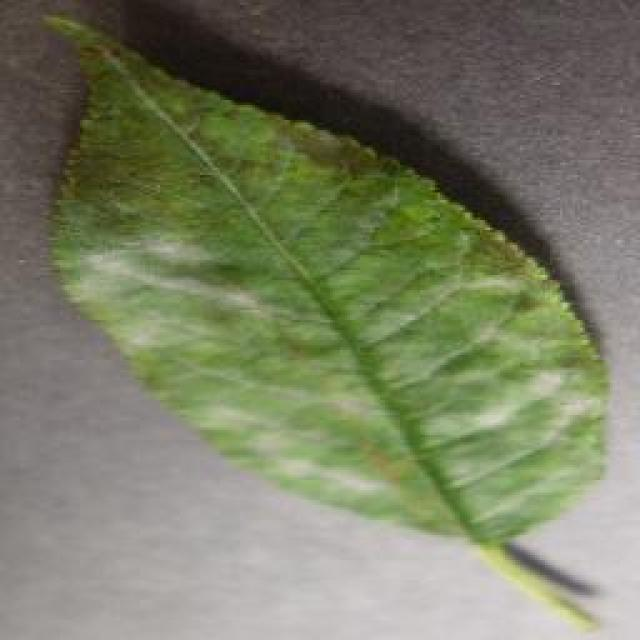Cherry___Powdery_mildew: (33, 2, 625, 638)
